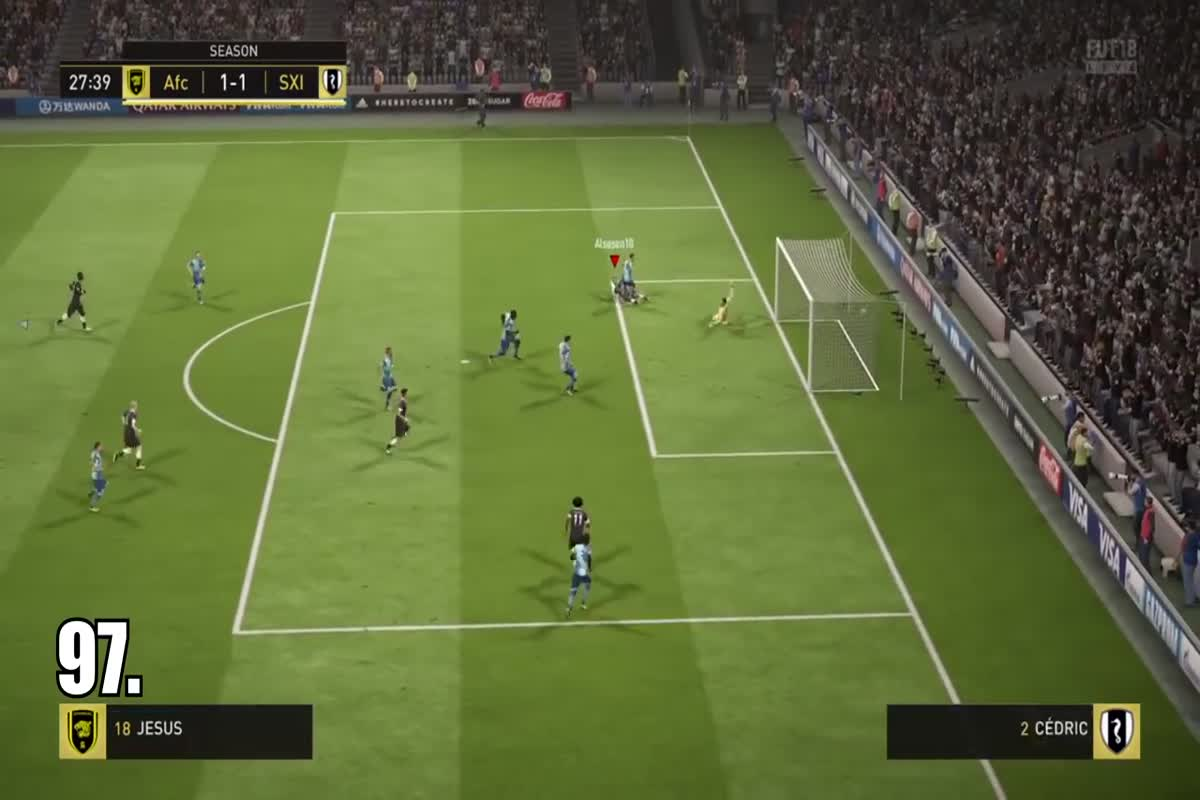ball: (850, 304, 872, 320)
